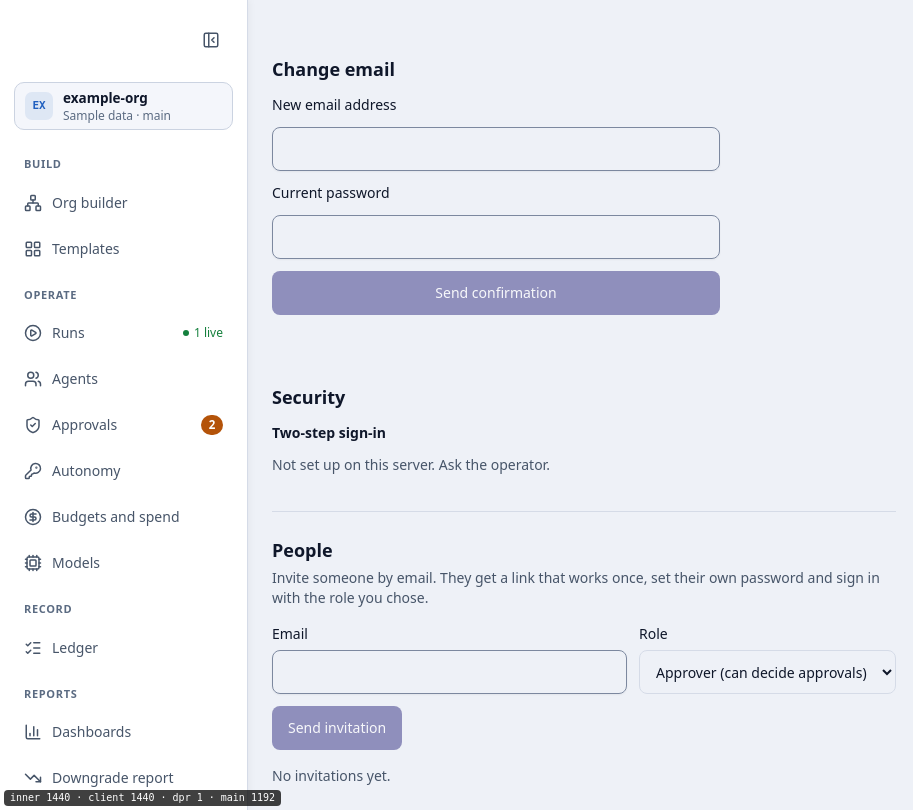
it: People: invite list (owner) › shows the server's text in a banner when email is off (503), and keeps the typed address
(page scrolled)
Type "ada@example.org" into the field labelled "Email" at (450, 672), box [272,650,627,694]
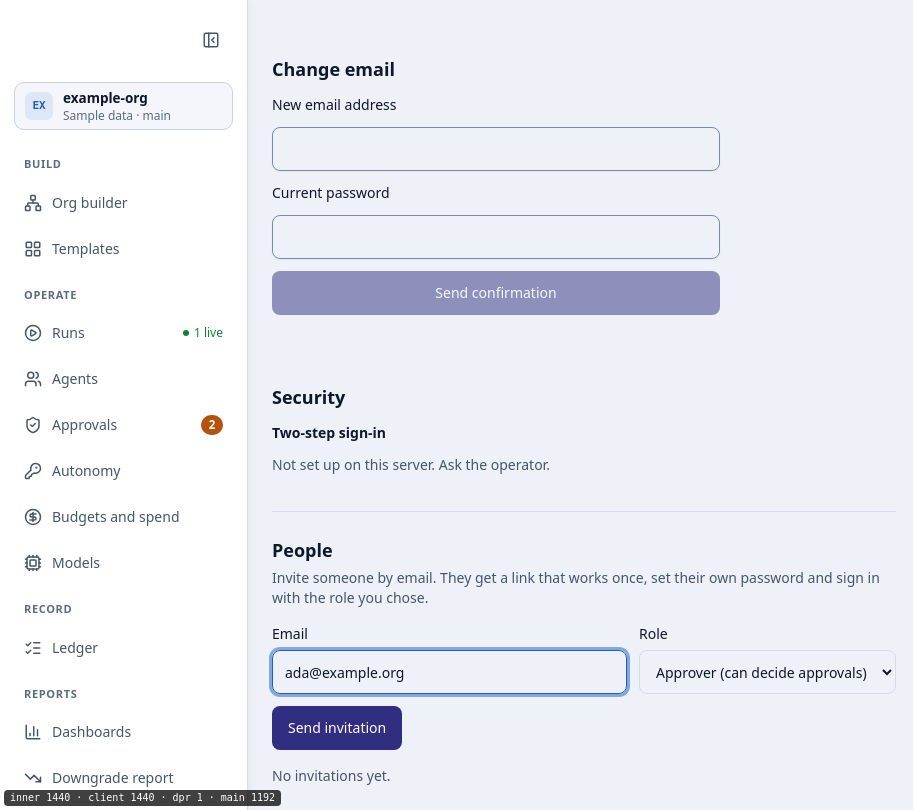
Click the button "Send invitation" at (337, 728), box [272,706,402,750]
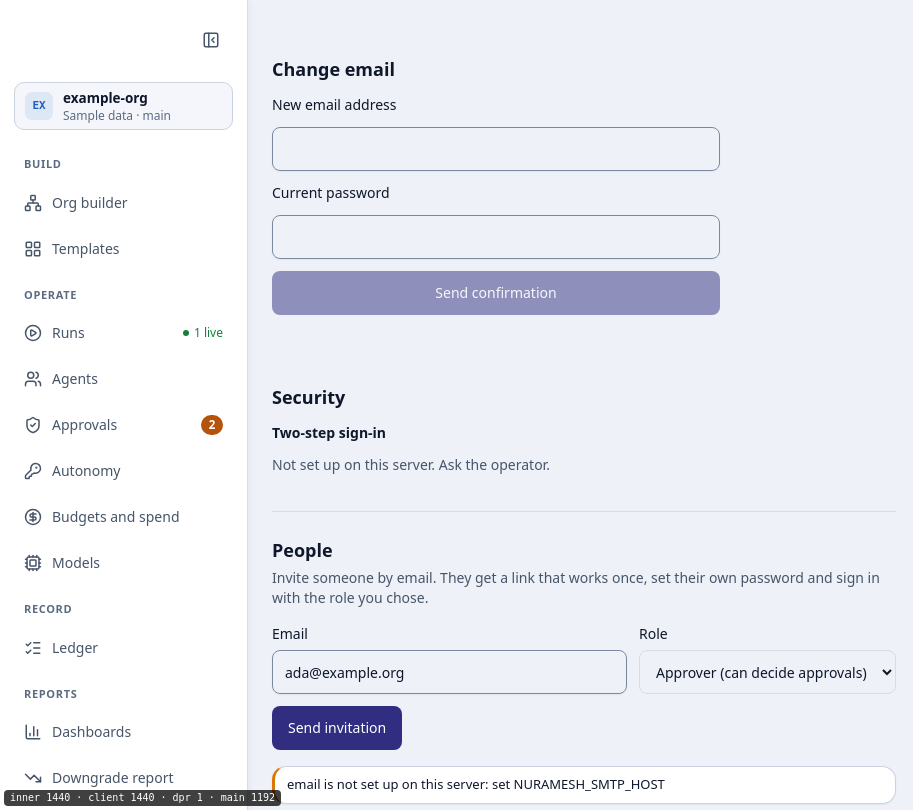
Result: the message reads "email is not set up on this server: set NURAMESH_SMTP_HOST" at [287,775,665,793]
